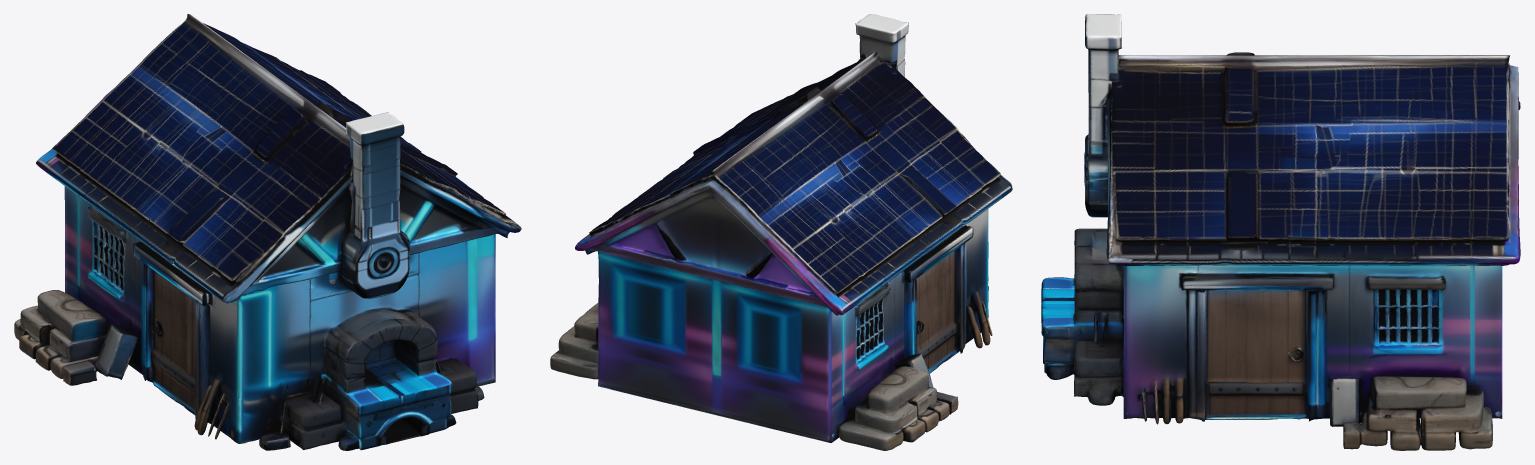
File: base_basic_pbr.fbx
The picture shows the model from 3 angles, left to right: view 1: azimuth 30°, elevation 25°; view 2: azimuth 150°, elevation 25°; view 3: azimuth 270°, elevation 25°; orthographic projection. The views are drawn at different scales.
Parts seen in each view (by area): view 1: model; view 2: model; view 3: model.
Part boxes in pixels (left/top/right/bottom): model: left=14, top=14, right=521, bottom=450; model: left=550, top=14, right=1012, bottom=450; model: left=1041, top=14, right=1520, bottom=450.
Bounding box in the file's own units: 179 × 131 × 175.
Materials: 1 (1 with a texture image).
